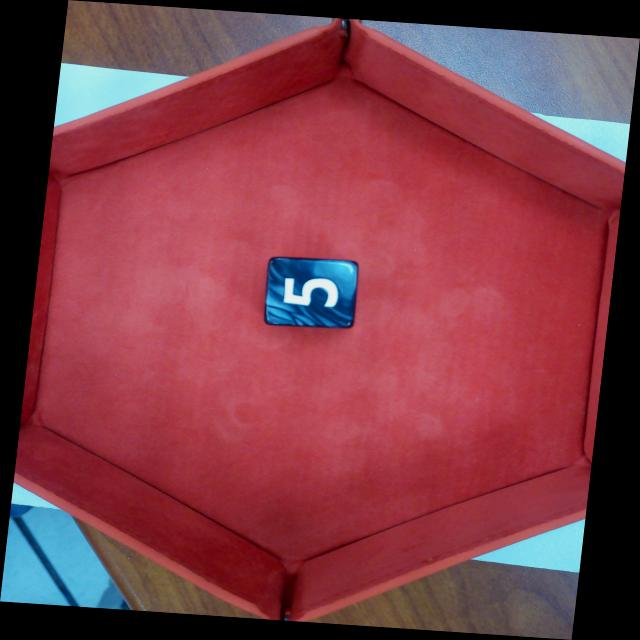dice: (265, 257, 358, 328)
